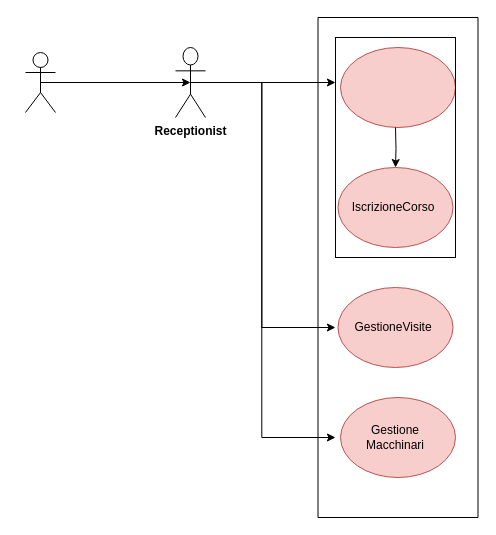
Some shapes in this 496 by 535 pixel diagram are drawn without their labels. The box of each missing label's shape, as (x1, y1, x2, y2) in pixels:
Iscrizione: (340, 46, 456, 128)
Persona: (24, 52, 56, 112)
